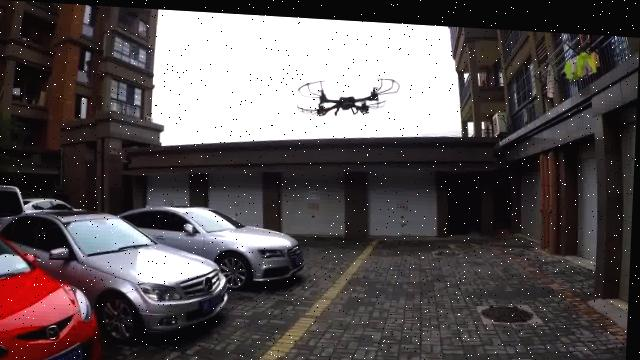drone: (281, 61, 410, 123)
